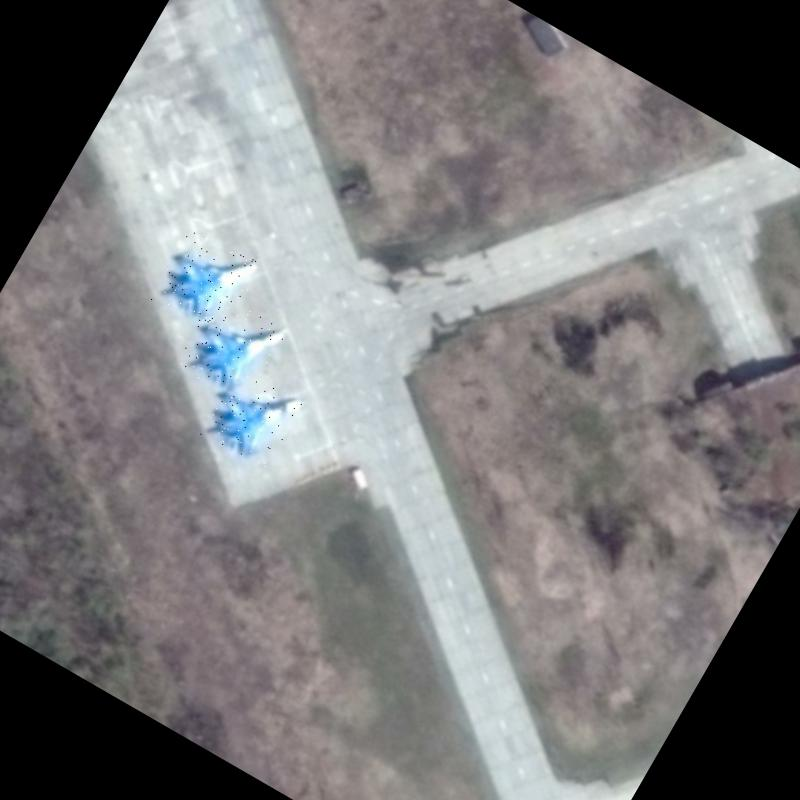A19: (176, 292, 288, 406), (150, 225, 262, 339), (198, 362, 308, 472)
